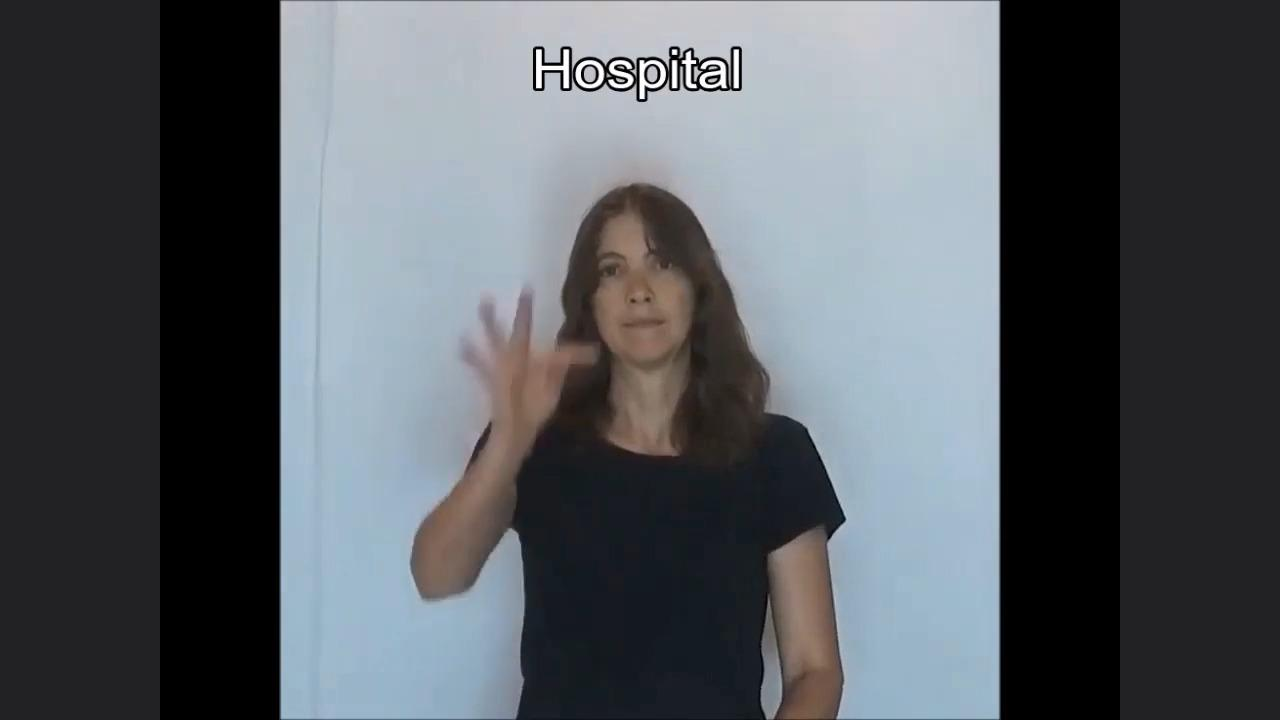Hospital: (340, 136, 882, 607)
